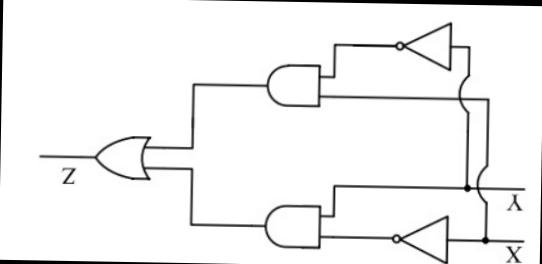and: (256, 55, 326, 111), (259, 197, 327, 252)
not: (390, 14, 456, 72), (389, 206, 453, 264)
or: (90, 126, 154, 184)
